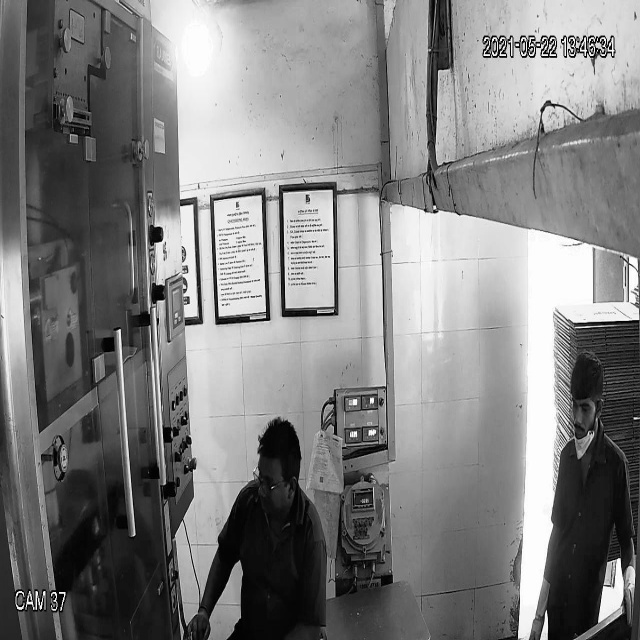Gafas: (248, 467, 296, 498)
Sin_gafas: (567, 390, 602, 419)
